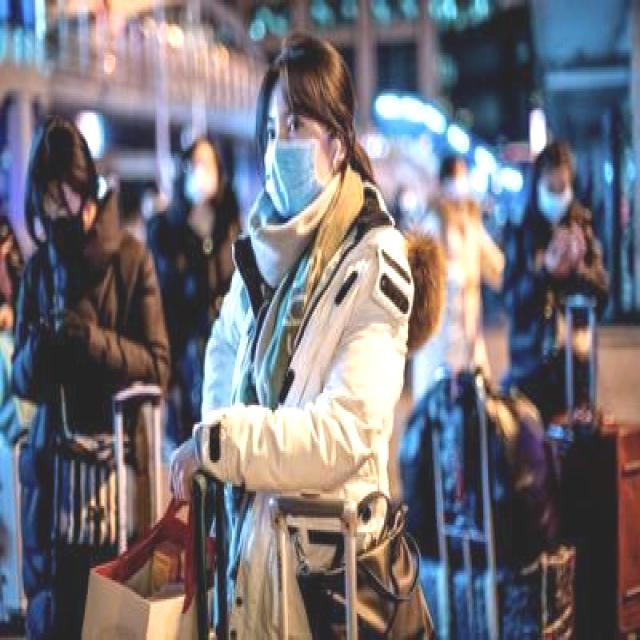face_mask: (264, 100, 328, 216), (38, 189, 92, 252), (182, 146, 221, 202), (538, 173, 576, 225)
head_nohelmet: (251, 36, 371, 129), (30, 109, 90, 183), (536, 130, 594, 182), (190, 127, 216, 168)
person: (180, 48, 410, 626), (0, 79, 149, 640), (138, 117, 235, 494), (498, 147, 612, 456), (408, 156, 486, 477)
